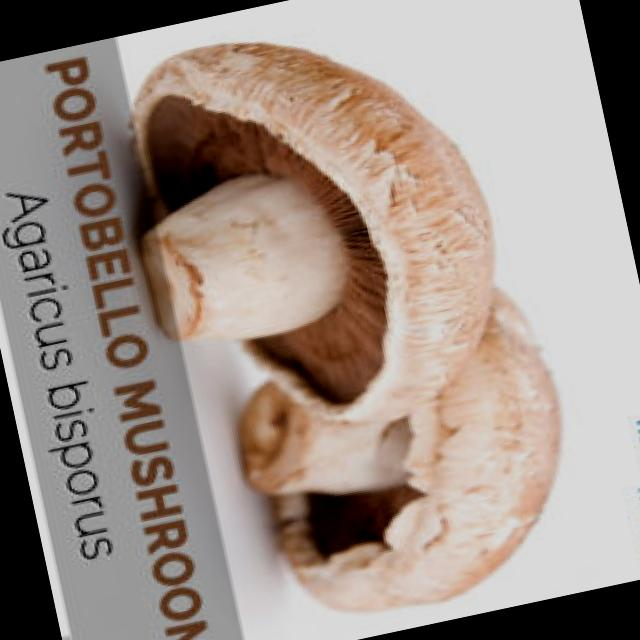Agaricus bisporus: (100, 0, 528, 464), (214, 281, 595, 635)
